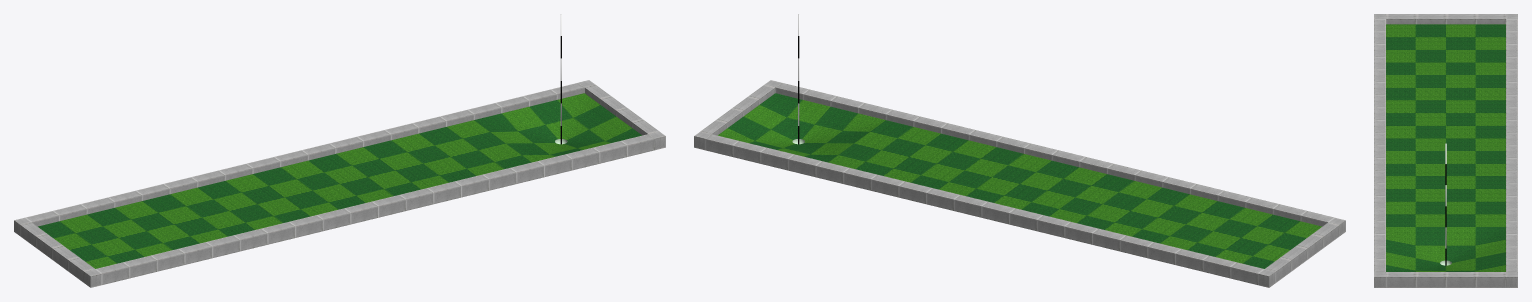
The picture shows the model from 3 angles, left to right: view 1: azimuth 30°, elevation 25°; view 2: azimuth 150°, elevation 25°; view 3: azimuth 270°, elevation 25°; orthographic projection. The views are drawn at different scales.
Visible parts, largest first — view 1: ground, barrier1, barrier2, square; view 2: ground, barrier1, barrier2, square; view 3: ground, barrier1, barrier2, square, flagstick.
Part boxes in pixels (box(x1,y1,x2,y2)): ground: box(38, 93, 641, 268); barrier1: box(25, 83, 654, 284); barrier2: box(20, 84, 658, 282); square: box(14, 80, 665, 287); ground: box(718, 93, 1321, 268); barrier1: box(705, 83, 1334, 284); barrier2: box(701, 84, 1339, 282); square: box(694, 80, 1345, 287); ground: box(1386, 24, 1505, 271); barrier1: box(1374, 19, 1517, 271); barrier2: box(1386, 14, 1505, 287); square: box(1374, 14, 1517, 287); flagstick: box(1445, 143, 1446, 265).
Size of the model in its own units: 104 by 23 by 24.
4 materials, 3 textured.
